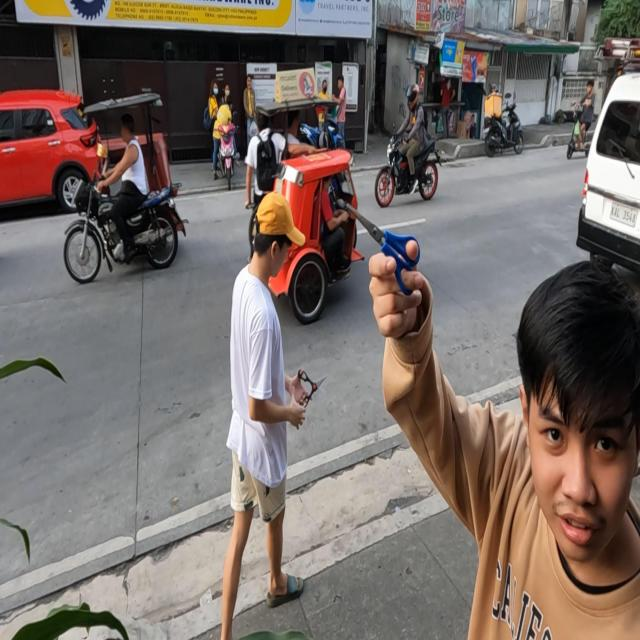scissor: (346, 202, 421, 296), (298, 369, 327, 409)
